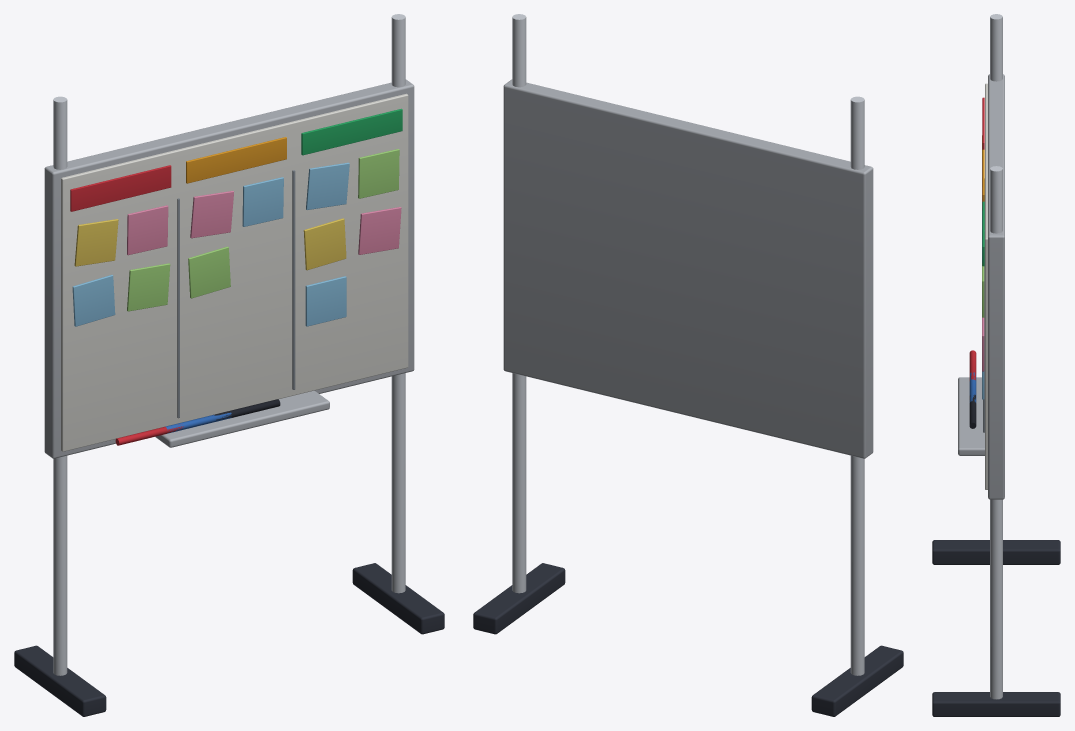
Rendered from kanban-board.glb.
3 renders of one model, left to right at view 1: azimuth 30°, elevation 25°; view 2: azimuth 150°, elevation 25°; view 3: azimuth 270°, elevation 25°, orthographic. The views are drawn at different scales.
Parts seen in each view (by area): view 1: kanban-board-solid, kanban-board-metal; view 2: kanban-board-solid, kanban-board-metal; view 3: kanban-board-solid, kanban-board-metal.
Boxes of the visible parts, bbox=[...] form: kanban-board-solid: bbox=[14, 79, 444, 716]; kanban-board-metal: bbox=[53, 14, 405, 675]; kanban-board-solid: bbox=[473, 79, 903, 716]; kanban-board-metal: bbox=[512, 14, 864, 675]; kanban-board-solid: bbox=[932, 74, 1060, 716]; kanban-board-metal: bbox=[990, 14, 1002, 699].
Bounding box in the file's own units: 0.7195 × 1.12 × 0.2395.
